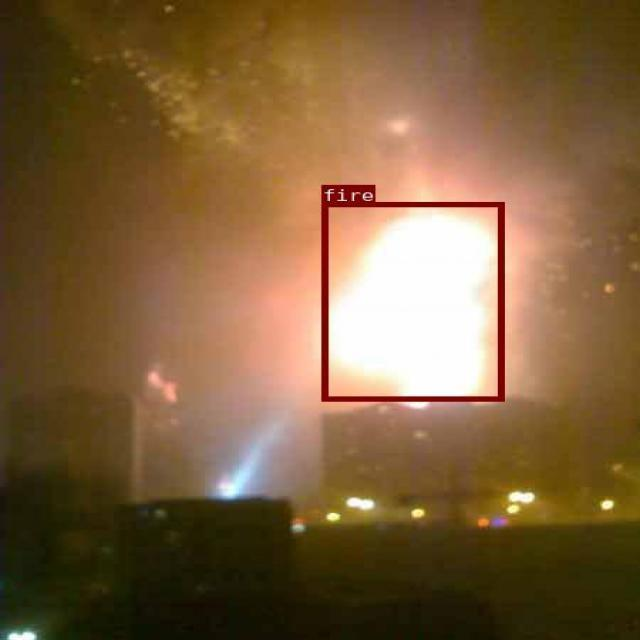fire: (321, 202, 503, 400)
